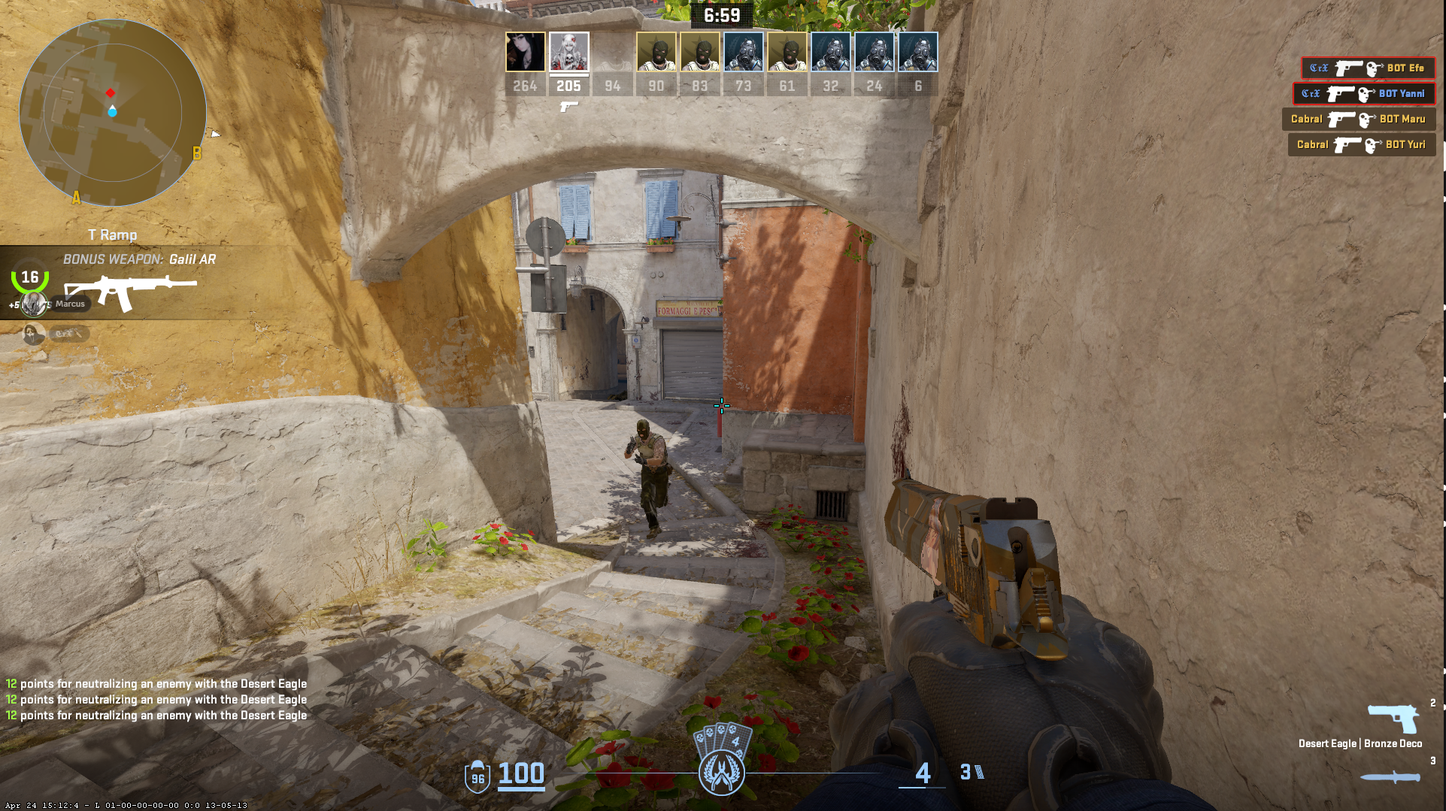T: (624, 419, 671, 538)
